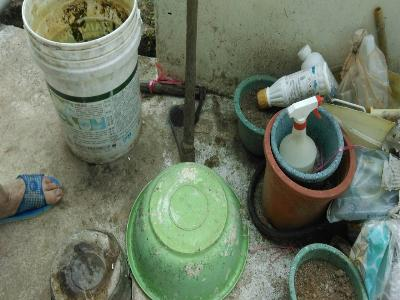bottle: (256, 61, 335, 110)
bowl: (125, 161, 254, 300), (263, 107, 357, 232), (46, 229, 135, 300), (269, 103, 345, 181)
bucket: (19, 1, 143, 167)
